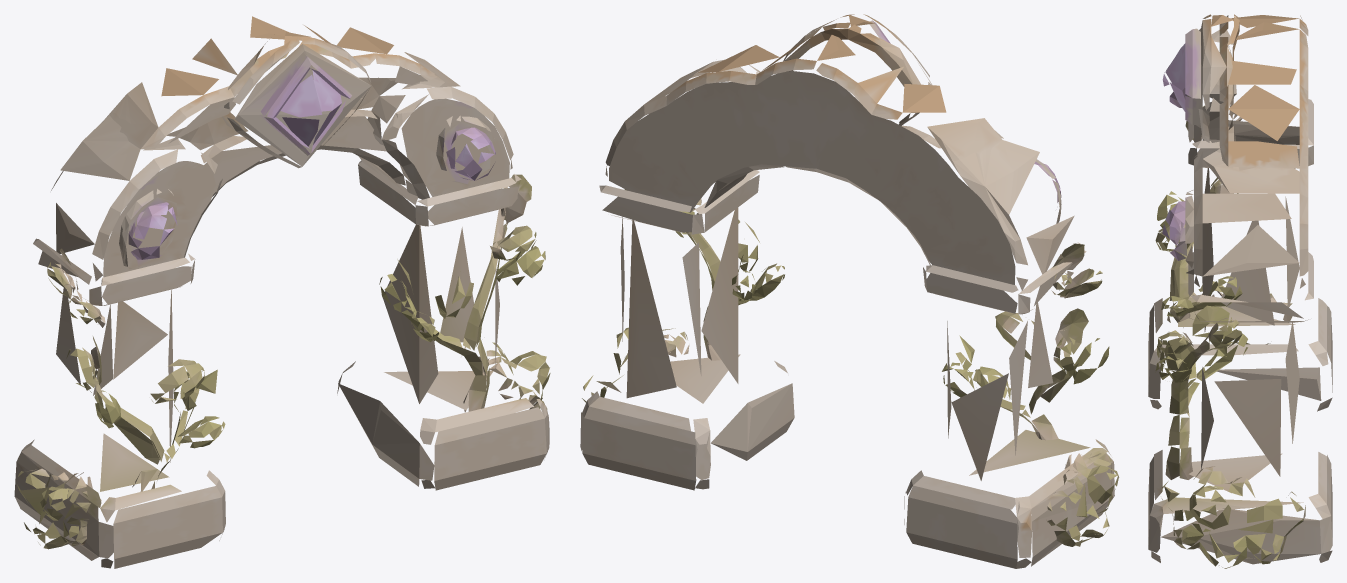
The model's file is g_e_arch.glb.
3 views of the same model, side by side, from view 1: azimuth 30°, elevation 25°; view 2: azimuth 150°, elevation 25°; view 3: azimuth 270°, elevation 25° (orthographic). The views are drawn at different scales.
Visible parts, largest first — view 1: geometry_0; view 2: geometry_0; view 3: geometry_0.
Boxes of the visible parts, bbox=[...] form: geometry_0: bbox=[14, 16, 550, 568]; geometry_0: bbox=[580, 14, 1119, 568]; geometry_0: bbox=[1148, 14, 1332, 568].
Size of the model in its own units: 0.1941 by 0.1673 by 0.063.
